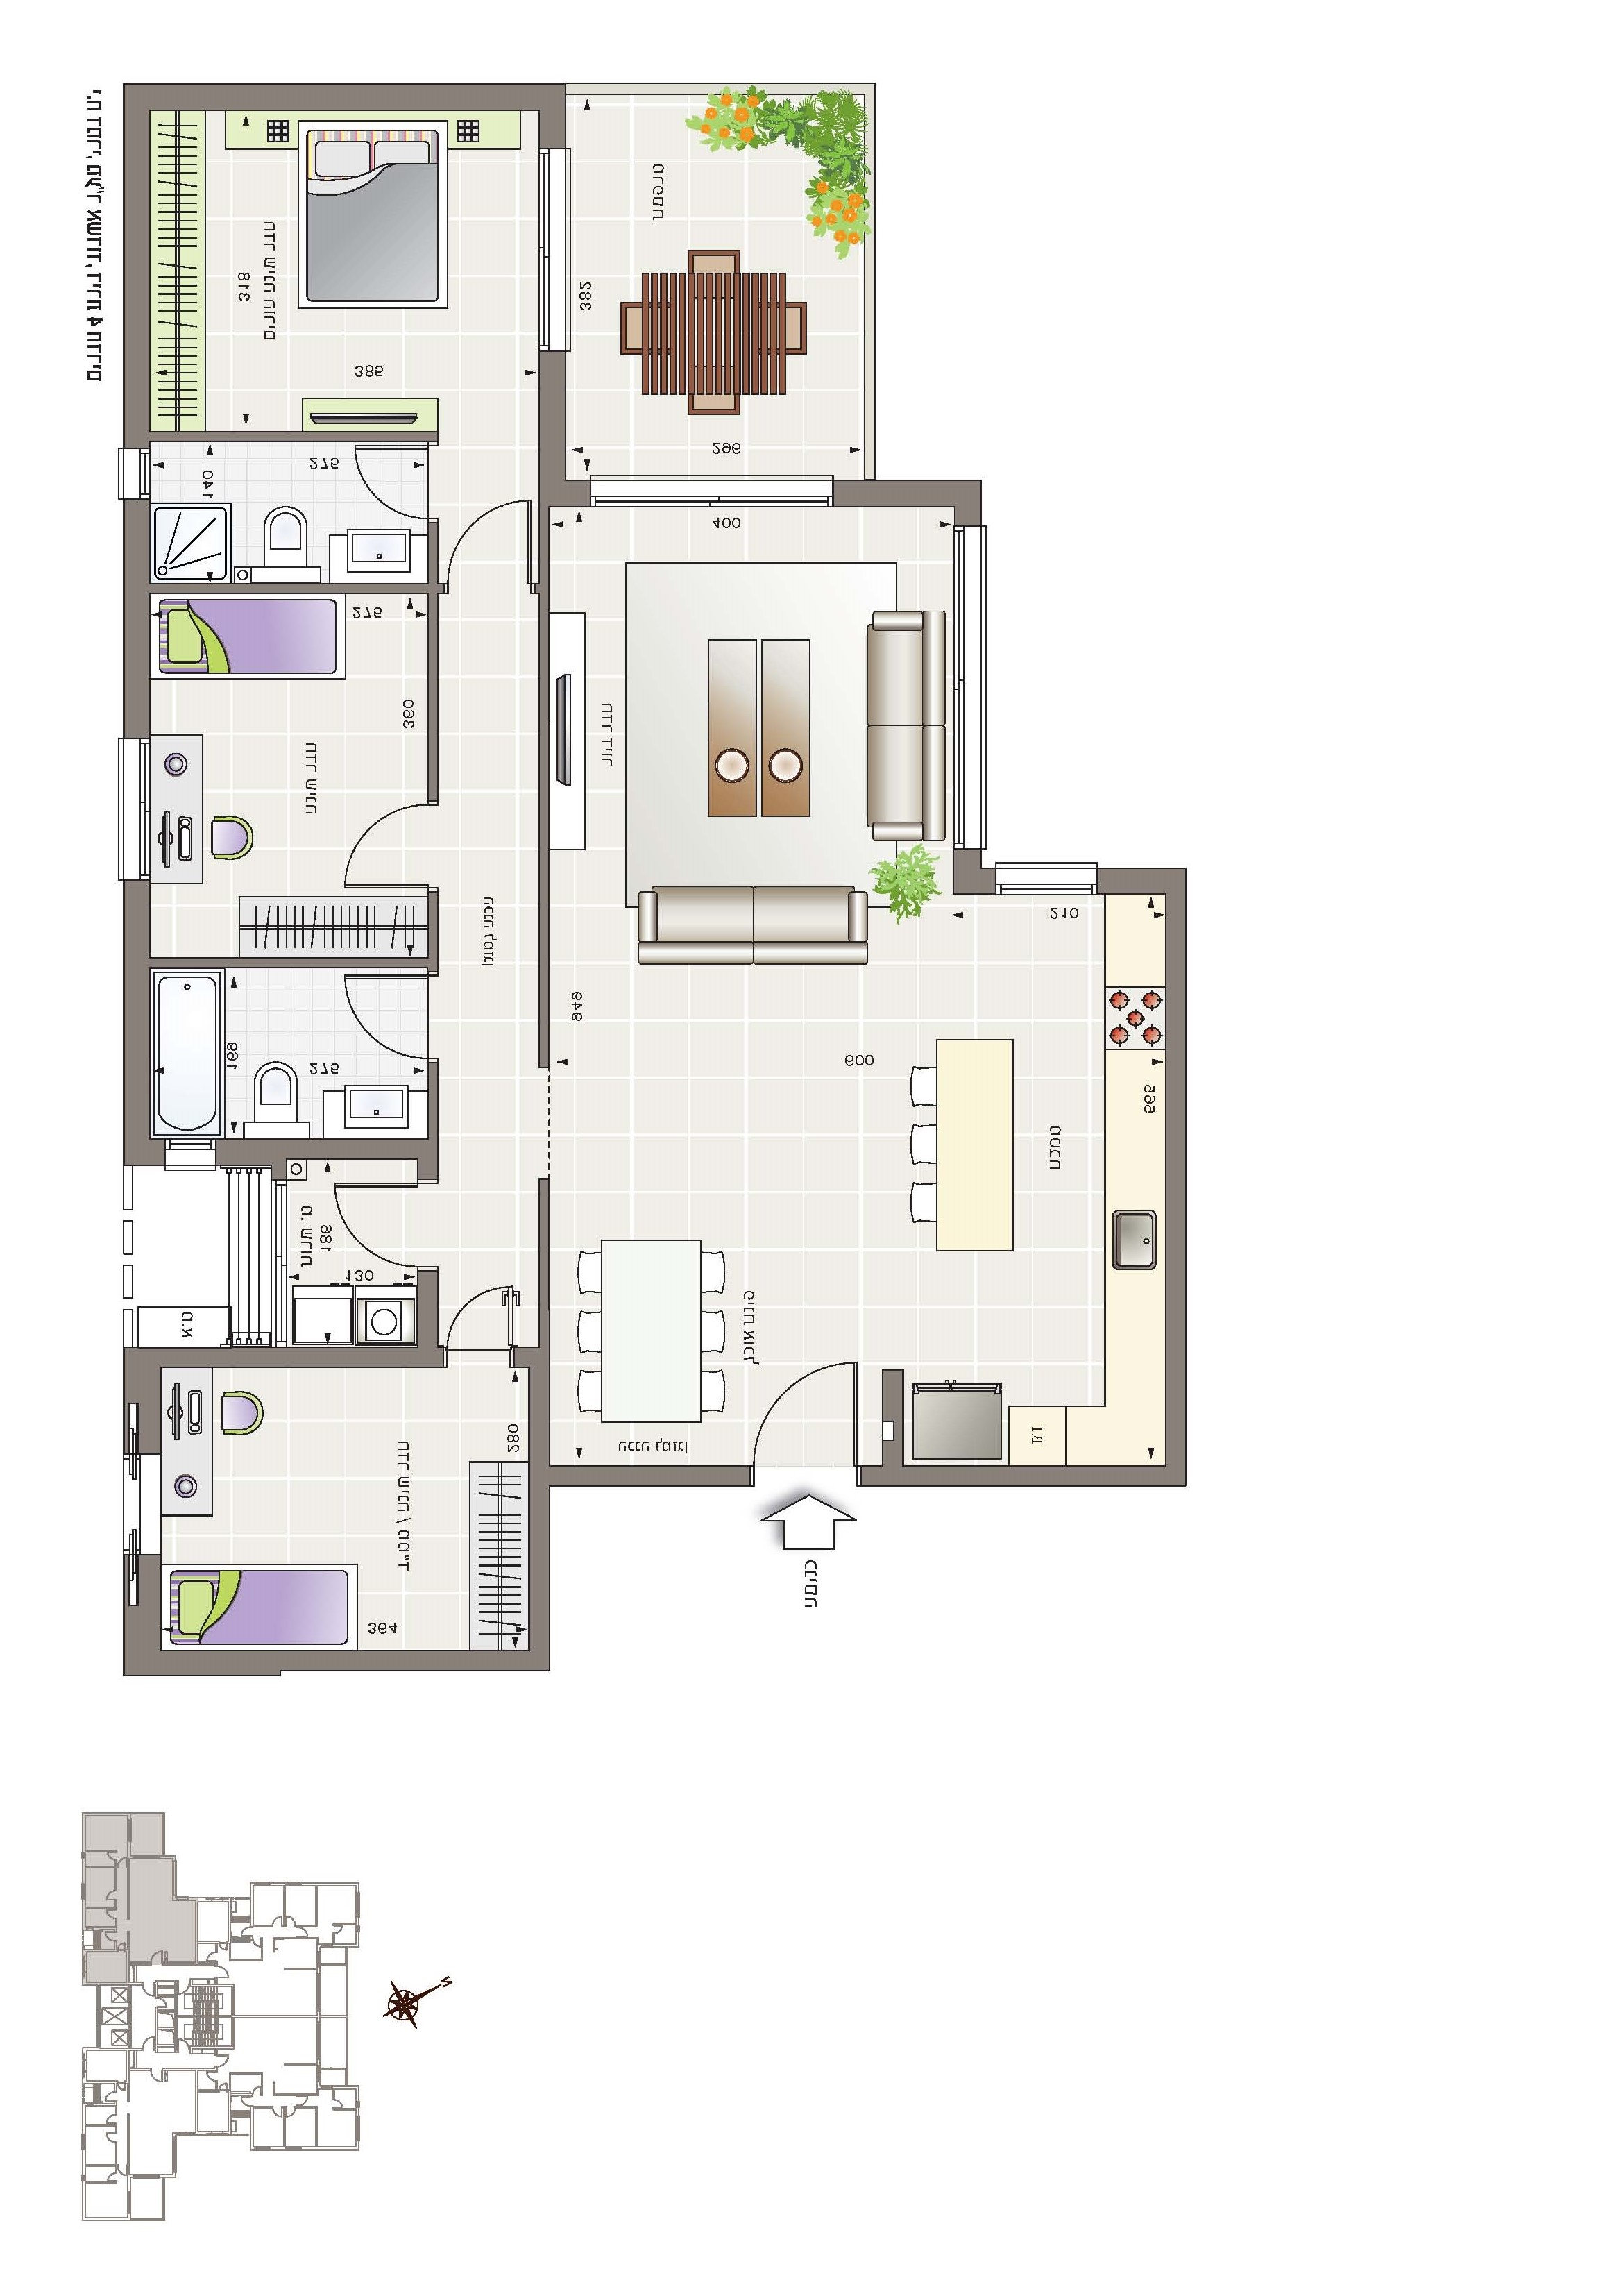door: (747, 1358, 862, 1491), (337, 801, 450, 889), (444, 494, 534, 597), (332, 1177, 436, 1267), (337, 975, 437, 1063), (441, 1279, 525, 1363), (350, 441, 434, 520)
wall: (1165, 866, 1187, 1488), (123, 878, 149, 1166), (539, 1179, 550, 1351)
window: (949, 523, 989, 850), (590, 473, 838, 509), (537, 149, 573, 353), (994, 863, 1100, 892)
